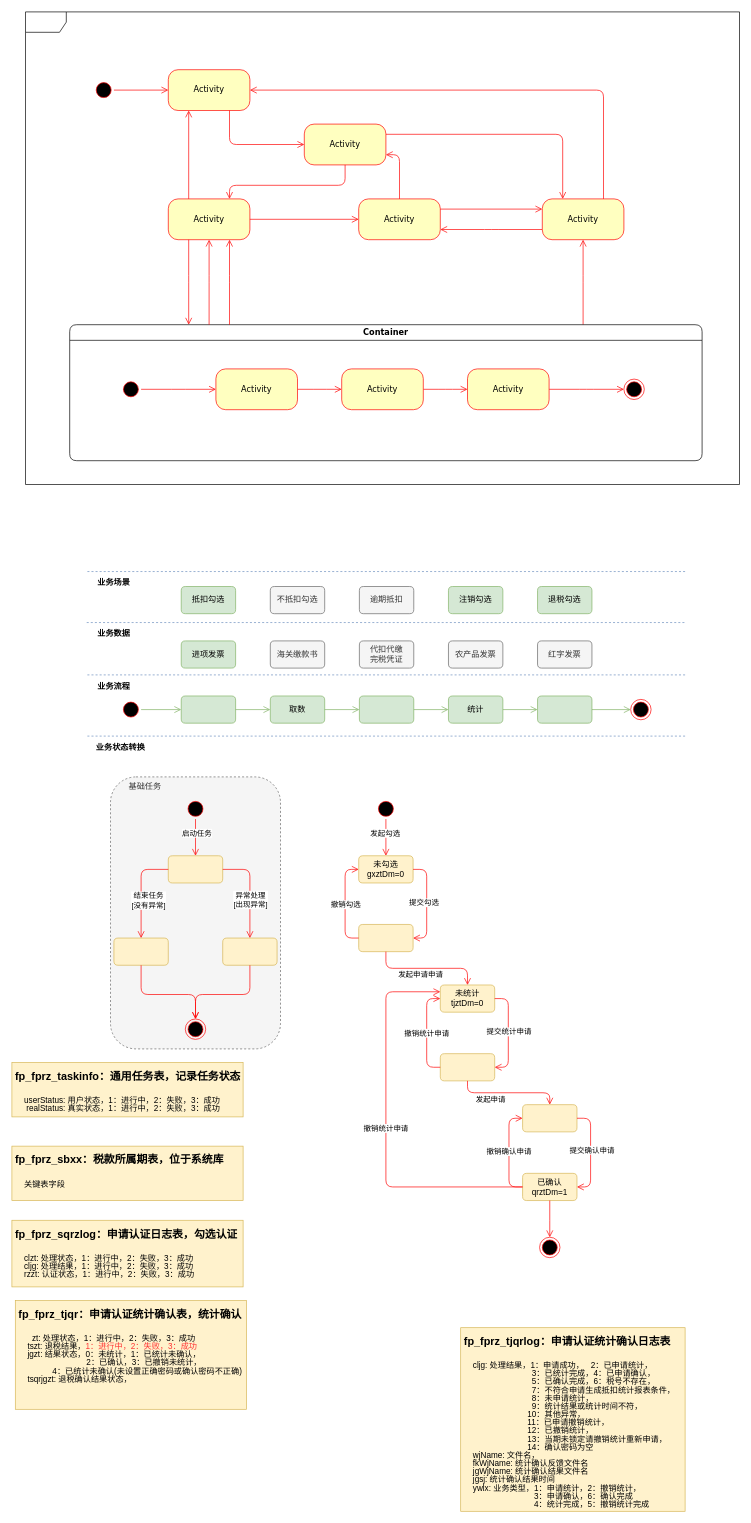
Some shapes in this 751 by 1523 pixel diagram are drawn without their labels. The shapes that lost their labels are listed below. From the top down, each one's box as (x1, y1, x2, y2) in pixels, then its label:
(25, 11, 740, 485): frame
(181, 695, 236, 723): 税款所属期
(359, 695, 414, 723): 勾选
(537, 695, 592, 723): 确认
(168, 855, 223, 883): 进行中 zt=1
(113, 937, 168, 965): 成功 zt=3
(222, 937, 277, 965): 失败 zt=2
(358, 924, 413, 952): 已勾选 gxztDm=1
(440, 1053, 495, 1081): 已统计 tjztDm=1
(522, 1104, 577, 1132): 未确认 qrztDm=0
